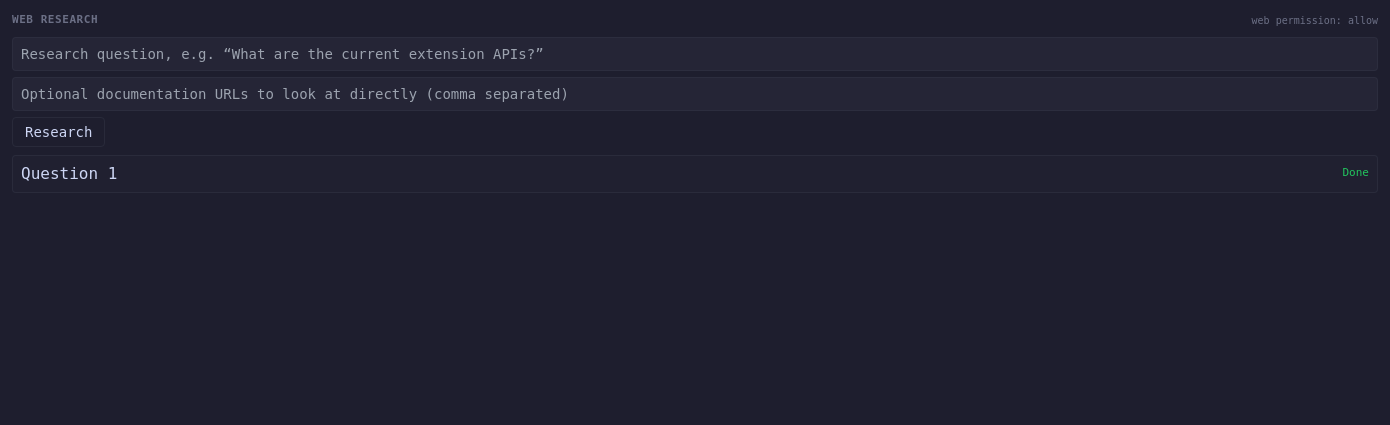
ResearchSection — what the user sees › renders records with status, sources, steps and the cited answer
Expected: the element showing "Question 1 Done" is shown, [12,154,1378,192]
Expected: the text "Done" is shown, [1342,165,1369,182]
// expand the row to see the detail
What coordinates should you click on to do the following:
click the button "Question 1 Done"
I would click on:
 (69, 173)
Its box is [21,162,1369,186].
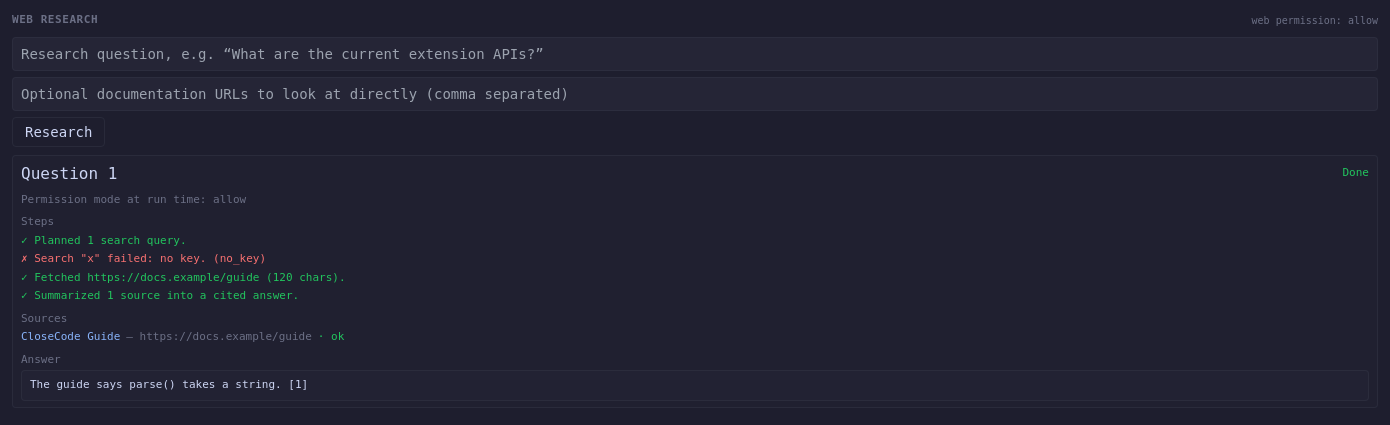
Now the text "The guide says parse() takes a string. [1]" is shown, box [21,370,1369,400]
Now the text "✗ Search \"x\" failed: no key. (no_key)" is shown, box [21,252,266,265]
Now the text "· ok" is shown, box [318,329,344,346]
